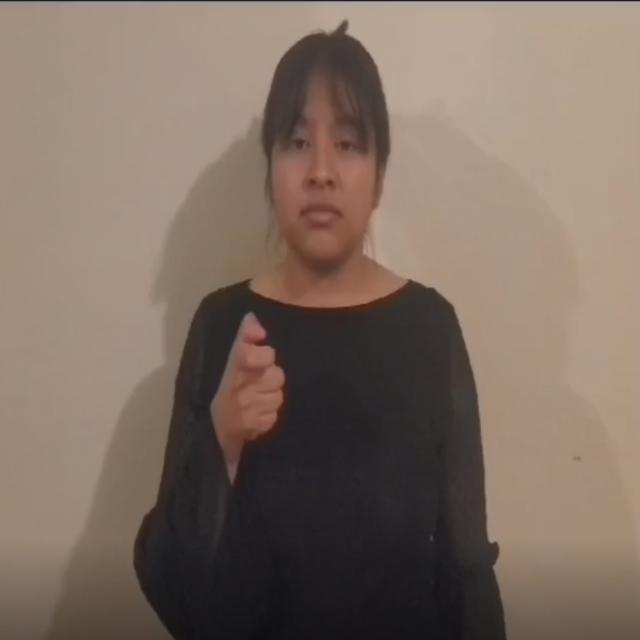X: (197, 302, 299, 489)
